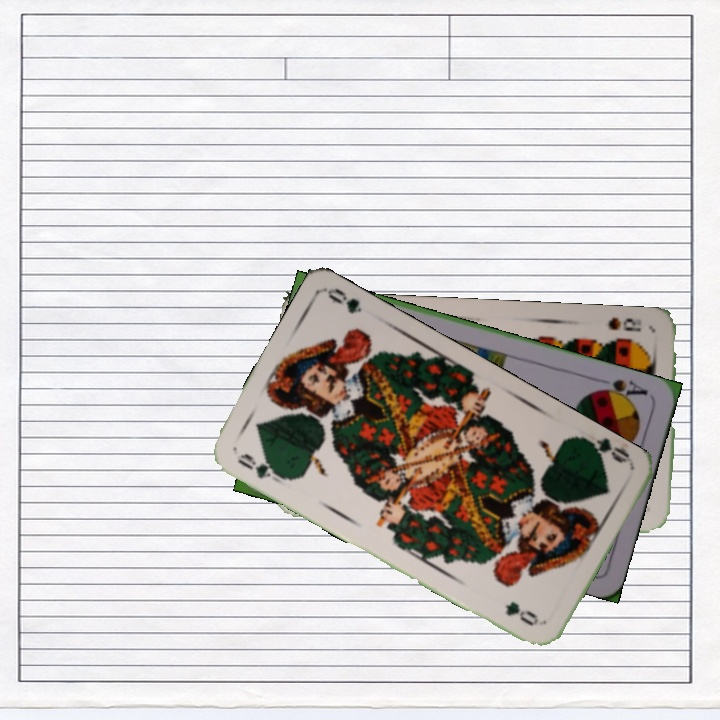GO: (233, 449, 288, 487), (576, 432, 633, 466)
S8: (604, 313, 644, 334)
SA: (591, 375, 651, 405)
